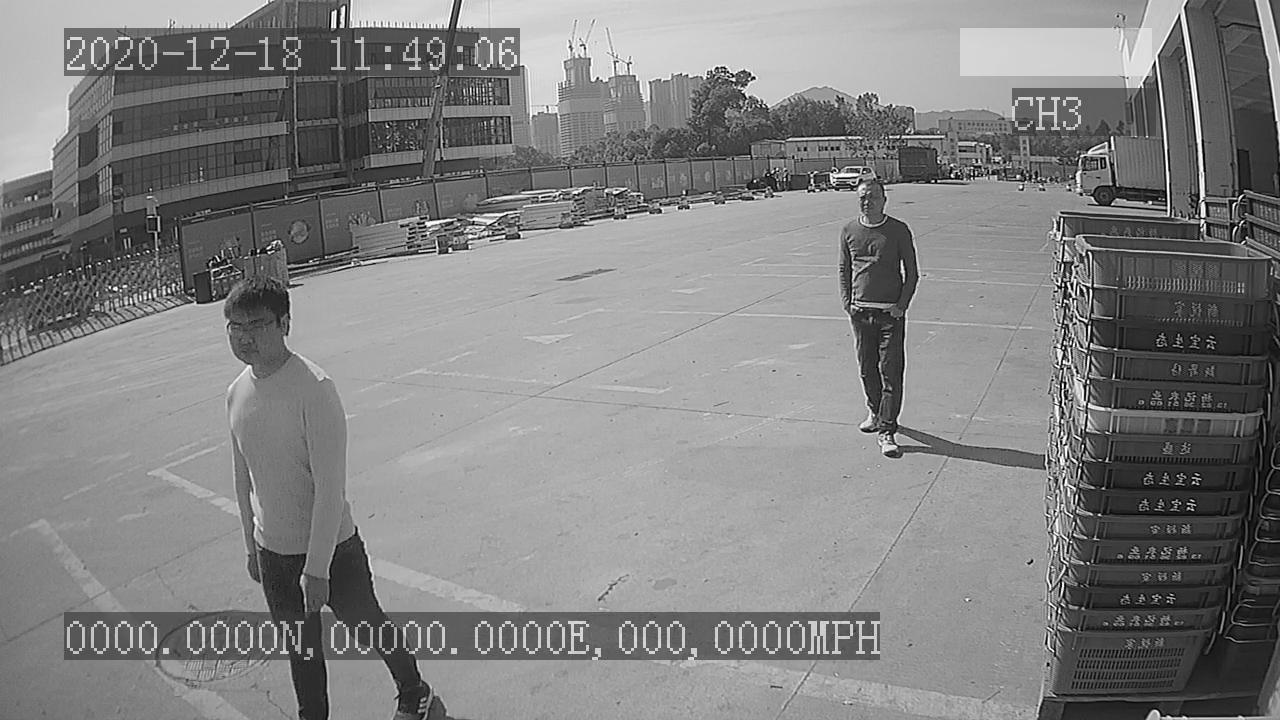person: (833, 179, 922, 461)
